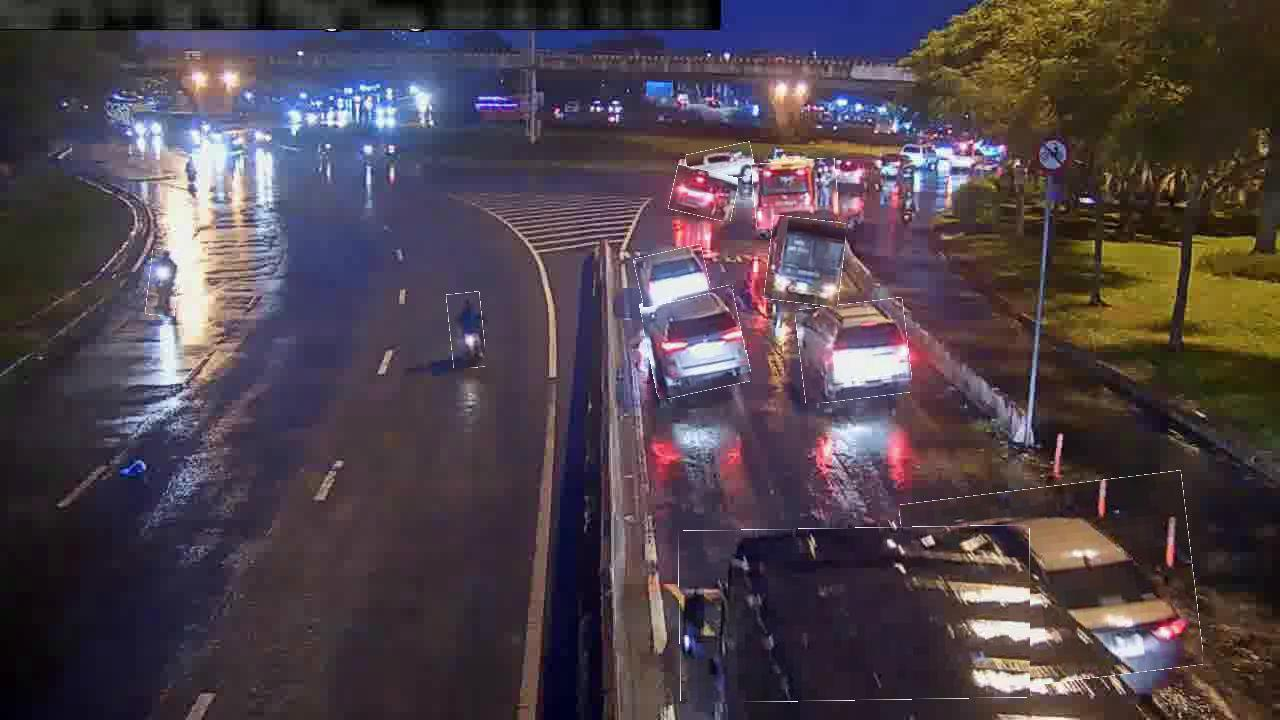14: (753, 160, 838, 227)
8: (679, 526, 1031, 702), (767, 217, 845, 305)
container: (905, 479, 1199, 690), (798, 300, 911, 401), (644, 290, 748, 396), (636, 248, 709, 304), (670, 168, 737, 219), (687, 145, 755, 184)
motorbike: (448, 292, 485, 369), (147, 249, 180, 317)
